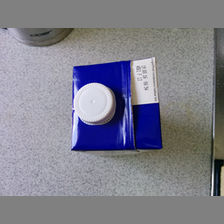milk: (65, 57, 164, 159)
